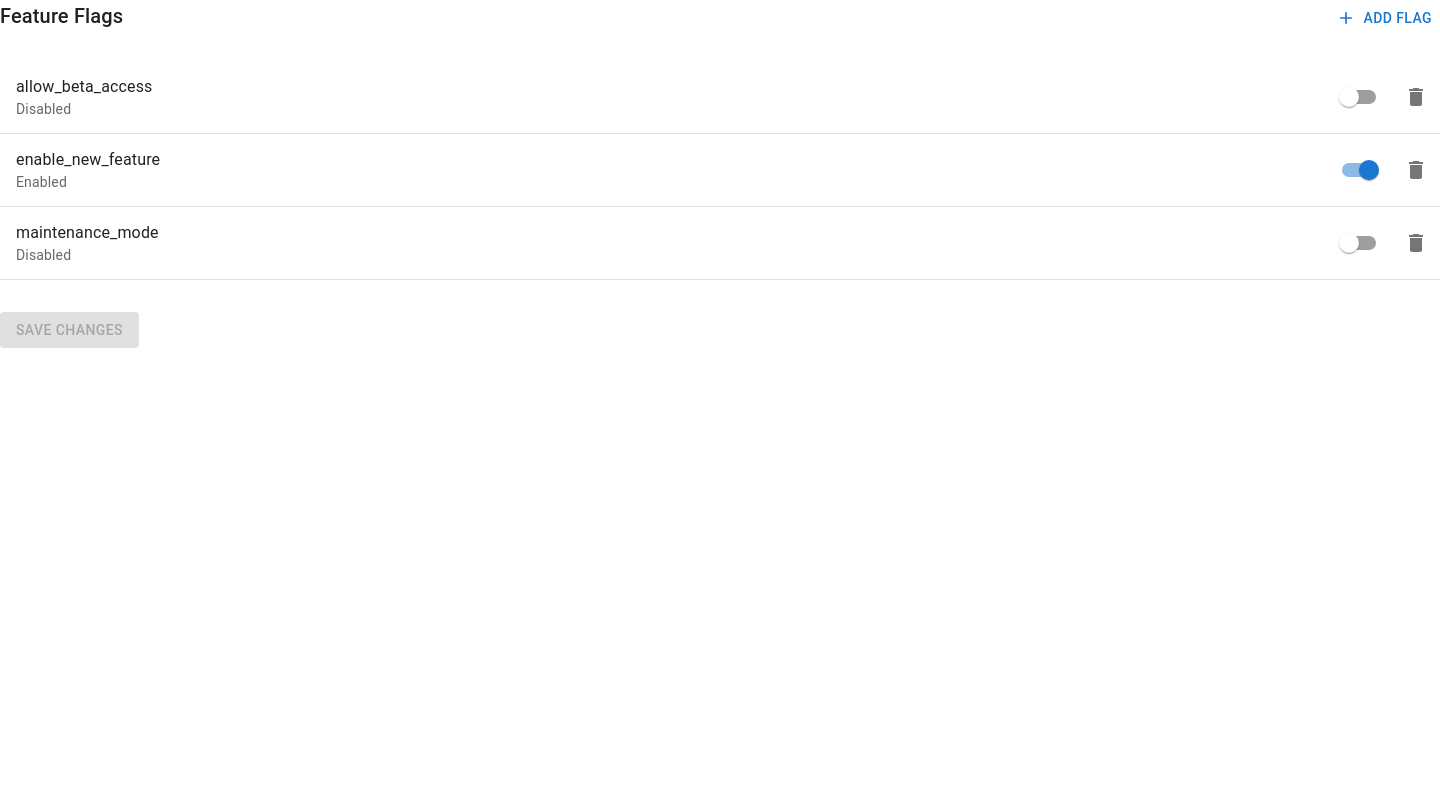
Test: FeatureFlagsList › Add Flag Dialog › should open dialog when Add Flag button clicked
Click the button "Add Flag" at (1386, 18), box 1332,0 -> 1439,36
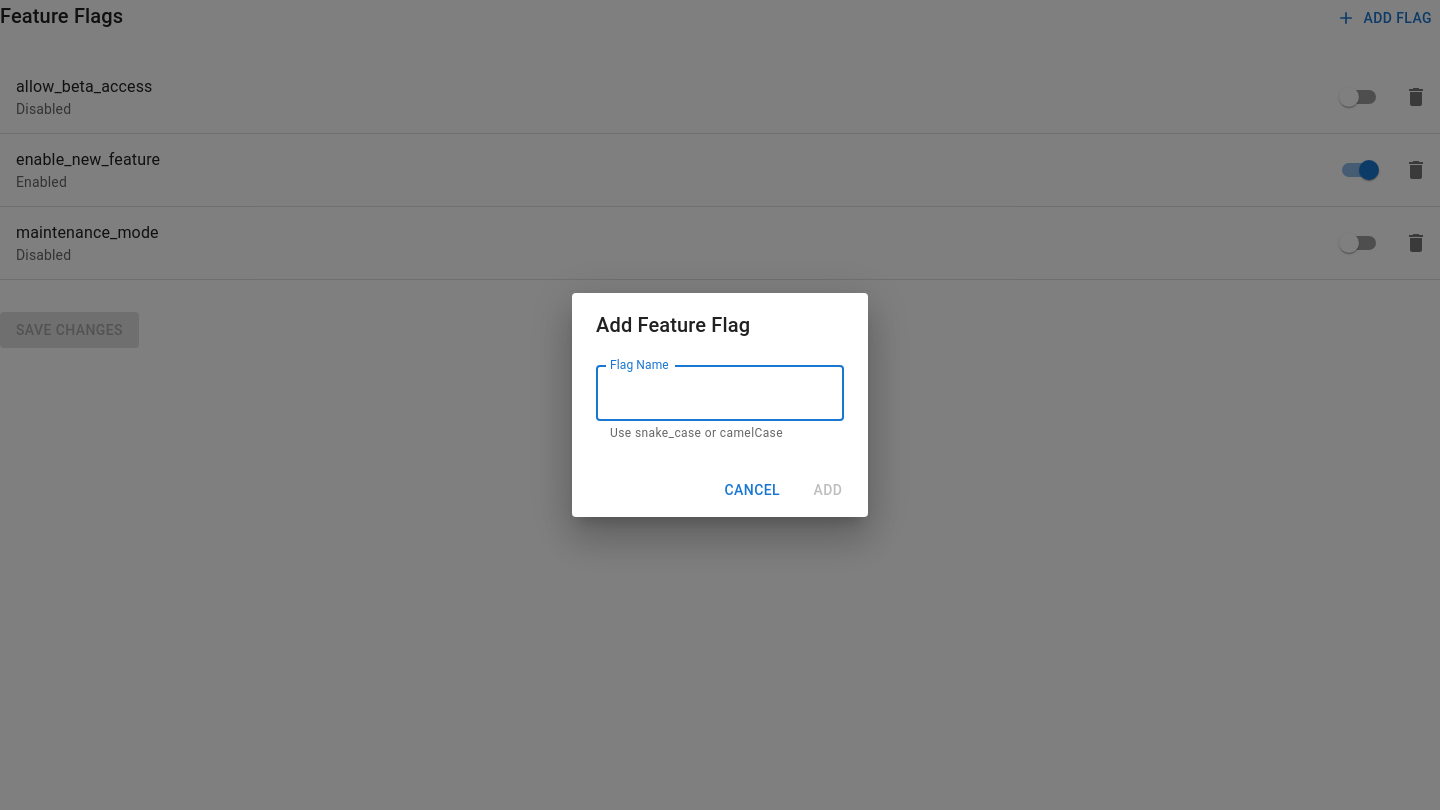
Check: the dialog is shown, box 572,293 -> 868,517
Check: the heading "Add Feature Flag" is shown, box 596,313 -> 750,337
